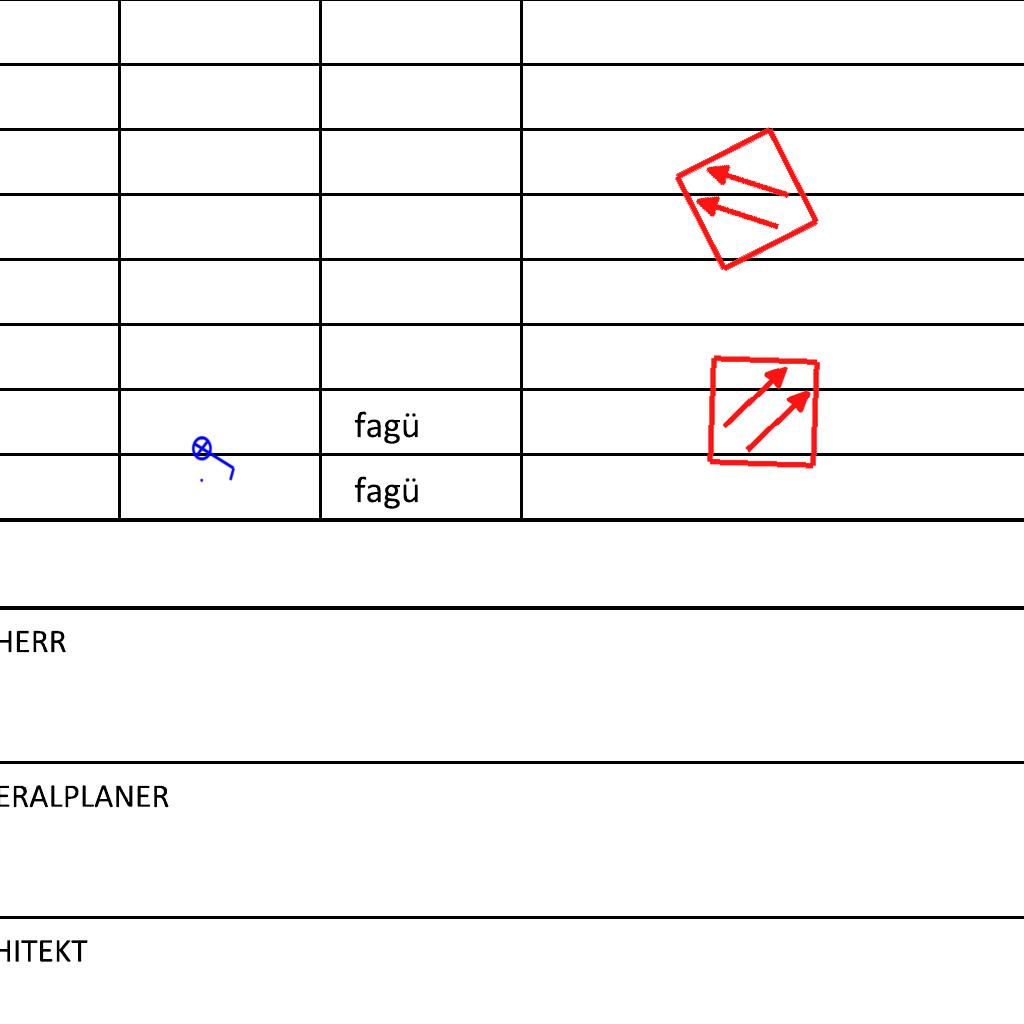Ausschalter_beleuchtet: (191, 429, 239, 485)
RMO_Rauchmelder_optischer: (670, 123, 823, 276), (705, 353, 822, 470)
